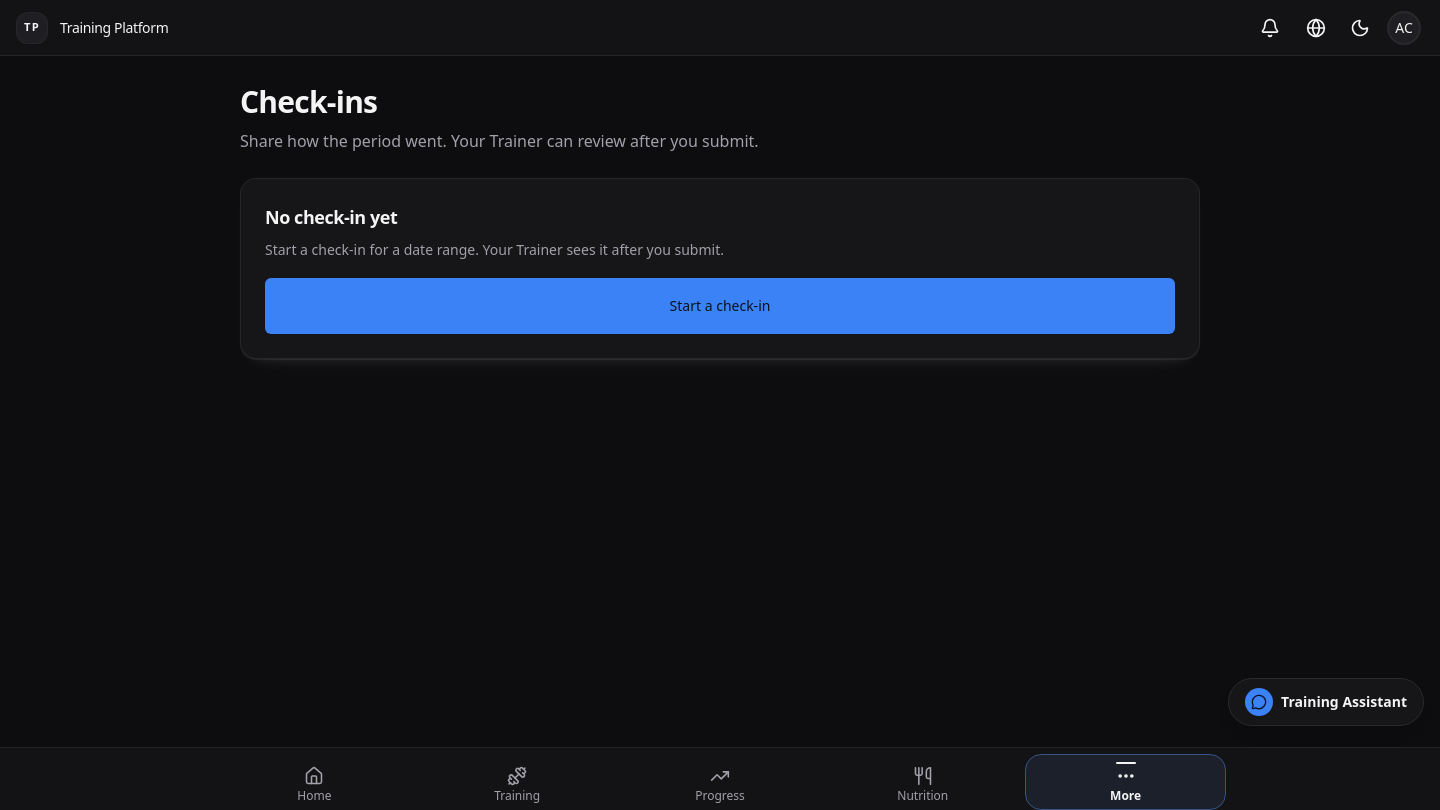
it: Client check-ins › maps 409 without exposing the raw conflict
Expected: the heading "No check-in yet" is shown, [265, 205, 397, 229]
Click the button "Start a check-in": (720, 306) [265, 278, 1175, 334]
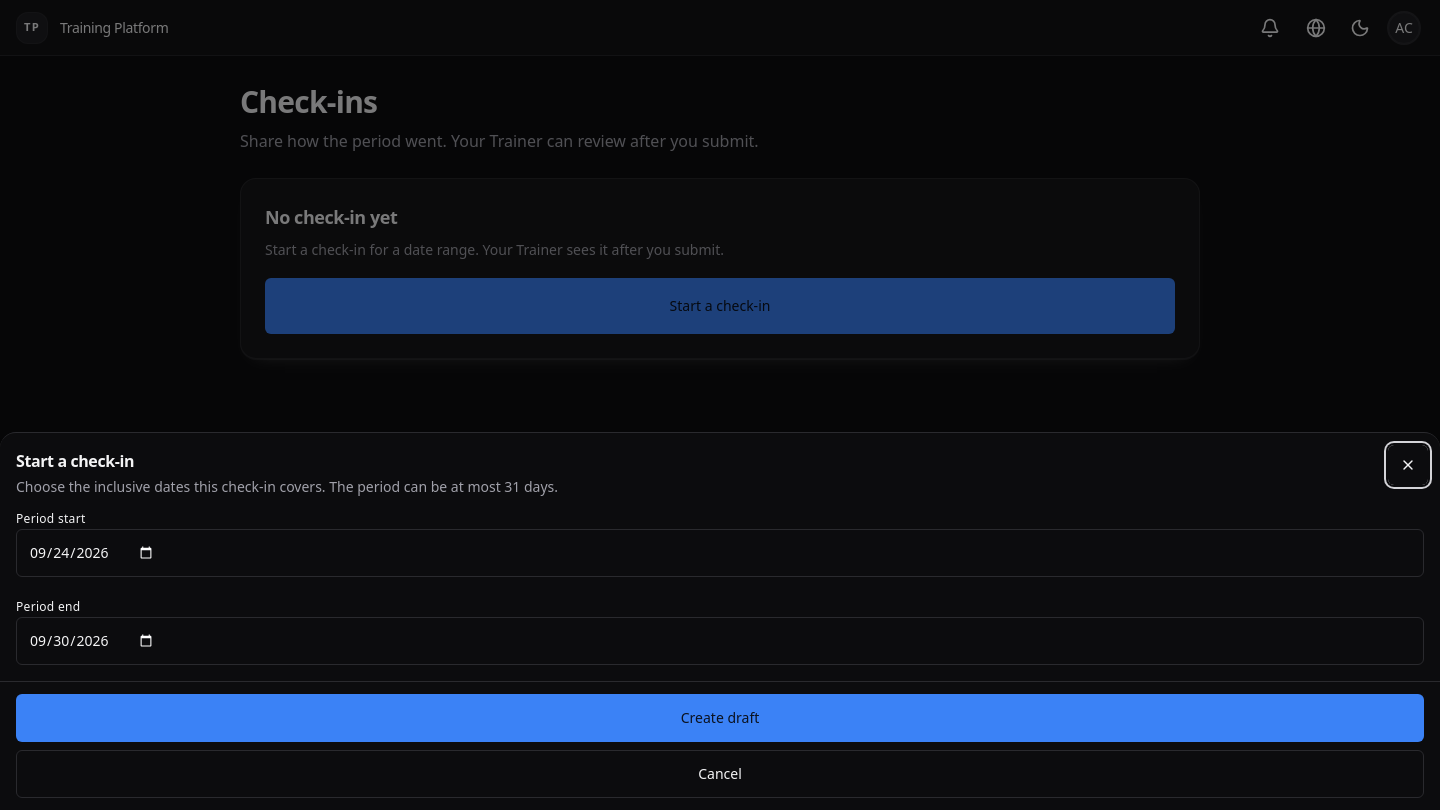
Click the button "Create draft": (720, 718) [16, 694, 1424, 742]
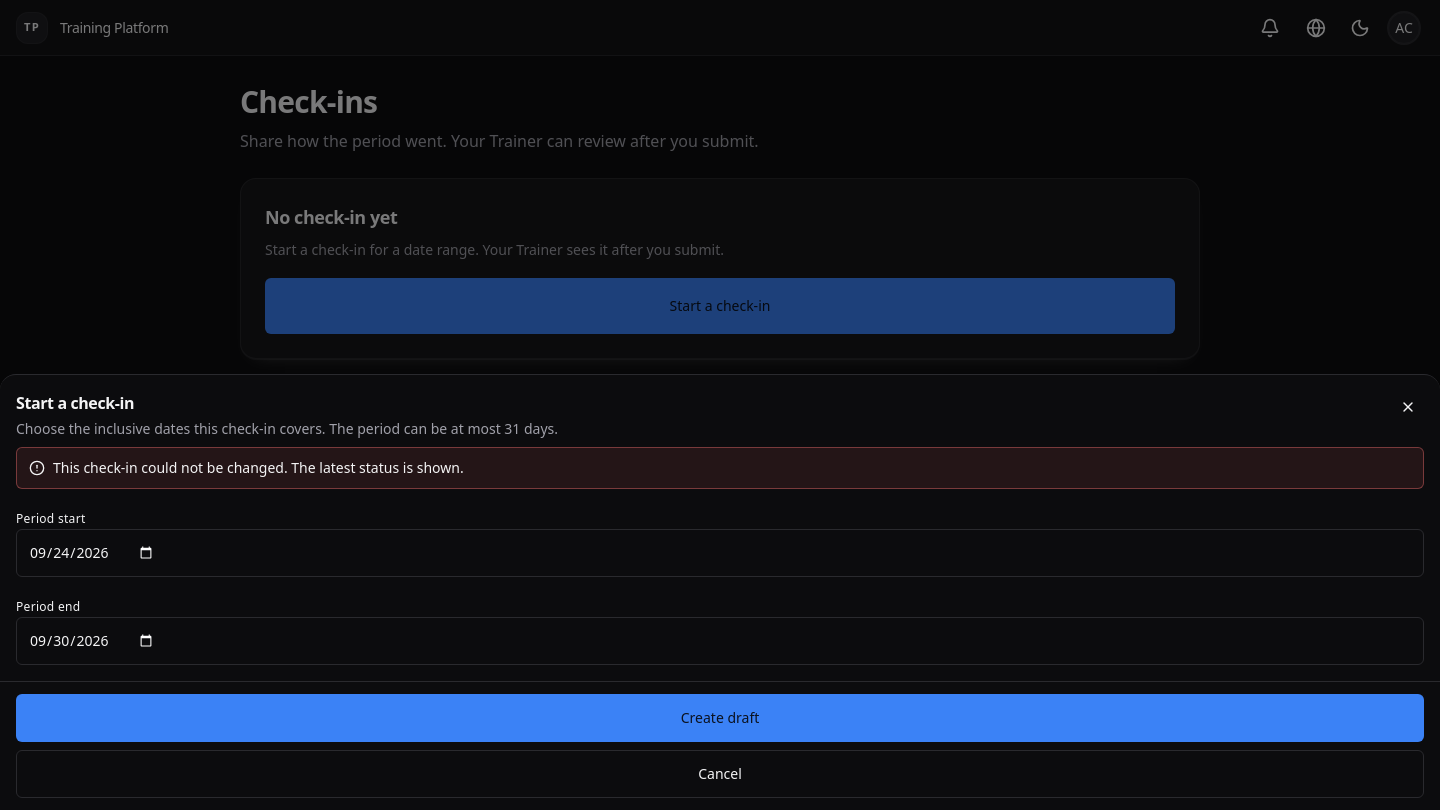
Now the text "This check-in could not be changed. The latest status is shown." is shown, box [53, 458, 464, 478]
